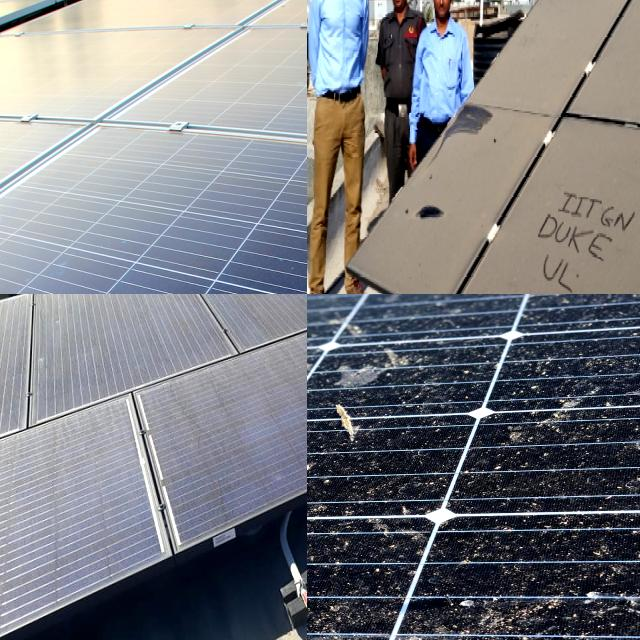bird: (307, 339, 434, 444), (314, 294, 429, 319), (307, 575, 349, 640)
dust: (518, 160, 640, 294), (159, 344, 307, 447), (0, 440, 94, 592), (528, 0, 640, 115), (54, 298, 162, 414), (408, 179, 508, 294), (448, 114, 526, 170), (224, 294, 307, 338)
